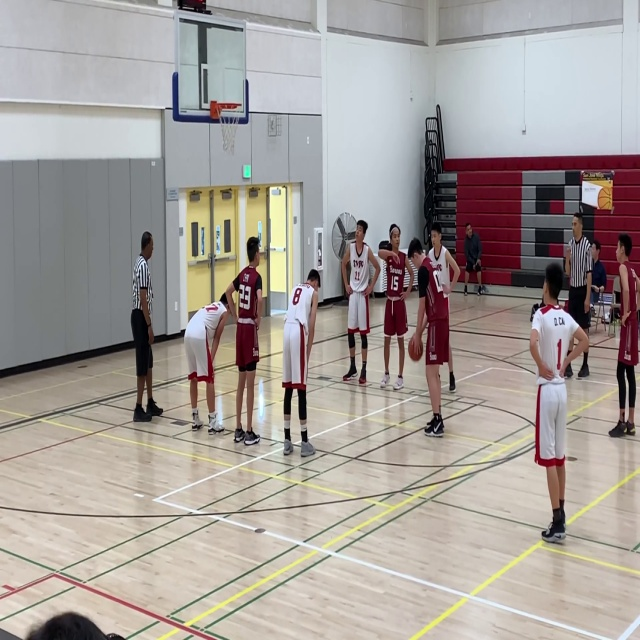Basketball: (408, 334, 423, 361)
